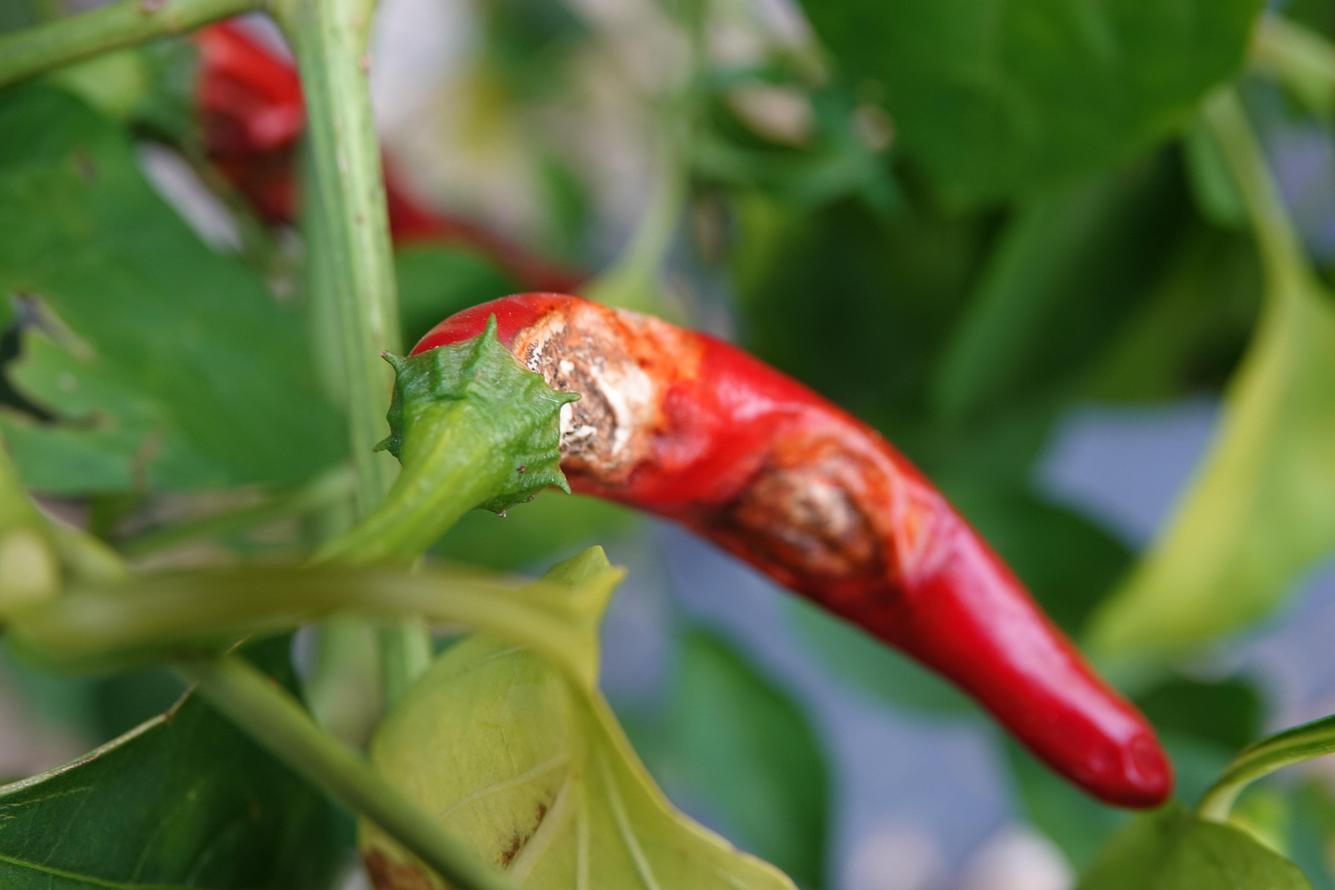Busuk Buah Antraknosa: (395, 287, 1178, 813)
